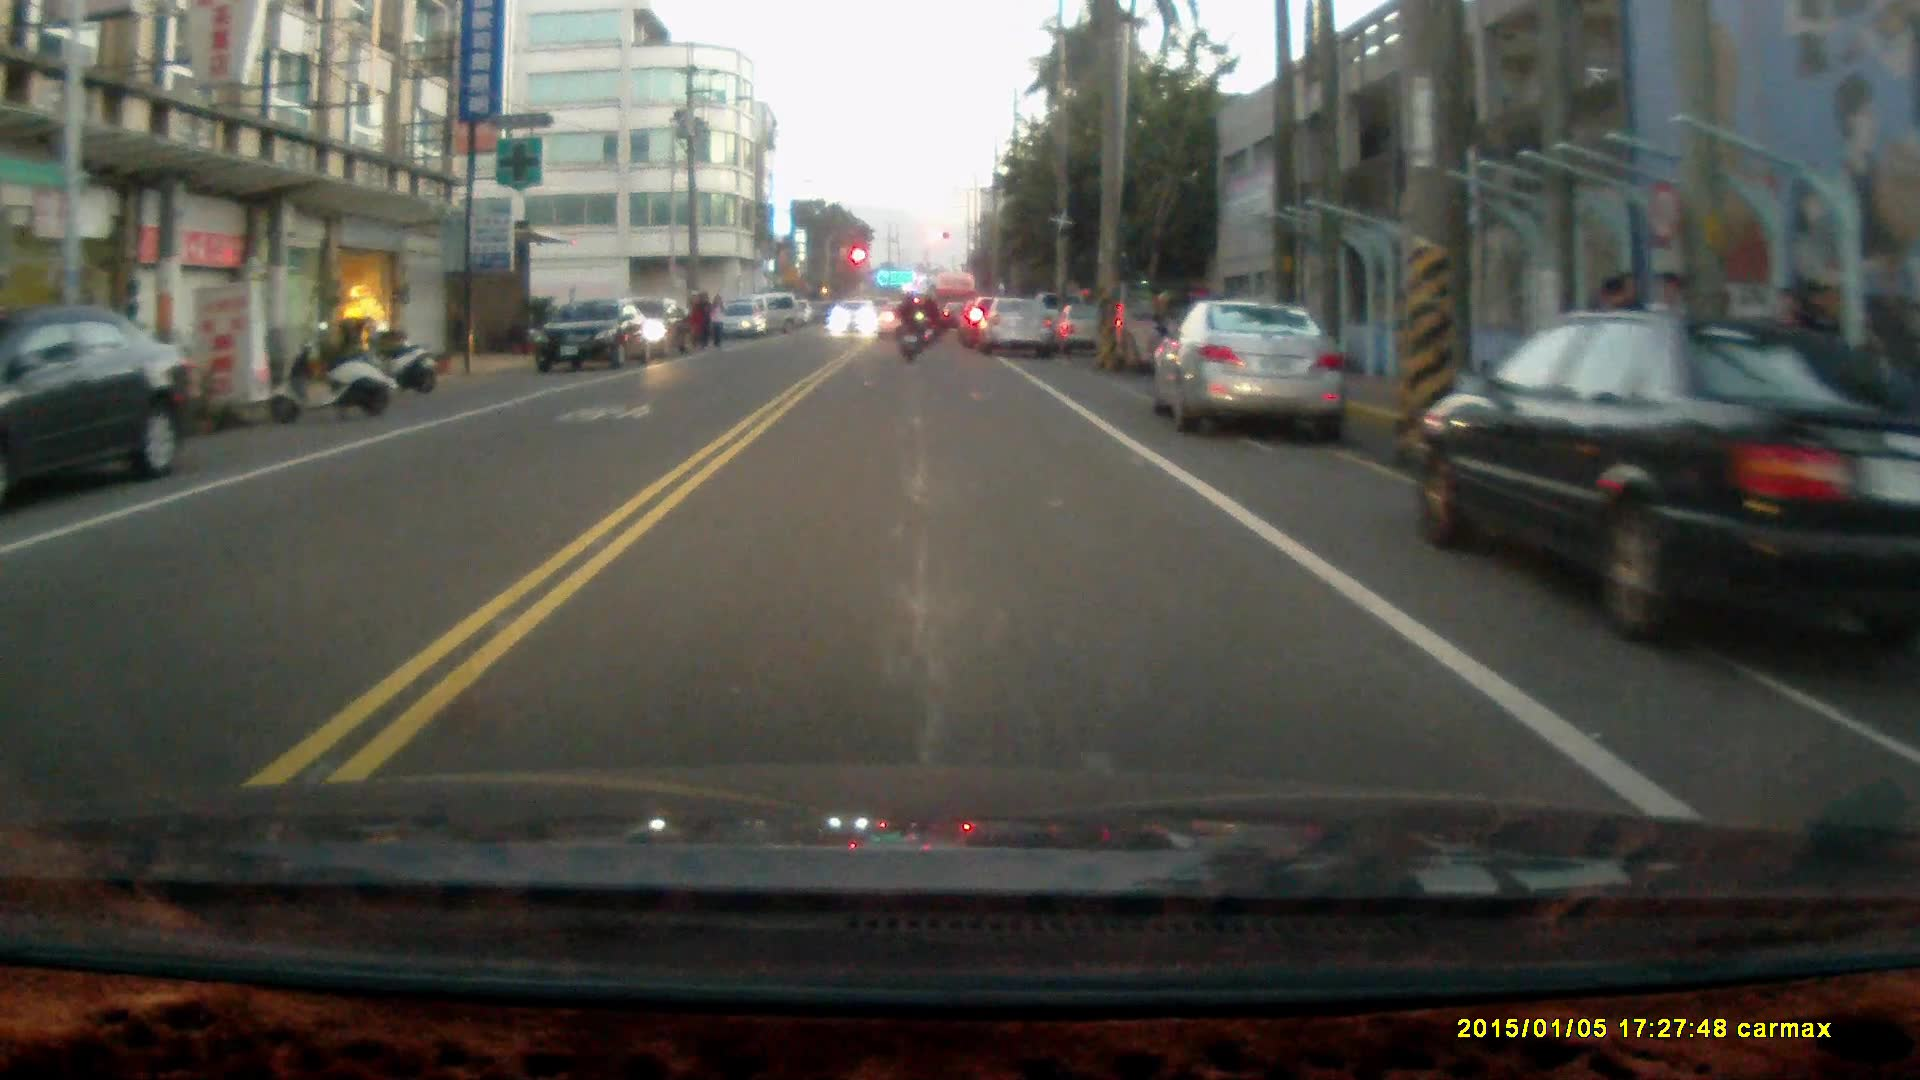pedestrian: (689, 287, 712, 350), (705, 290, 725, 350)
rider: (893, 287, 925, 363)
vehicle: (1412, 304, 1920, 648), (1, 306, 184, 500), (1149, 302, 1348, 431), (532, 299, 660, 378), (977, 292, 1056, 352)
